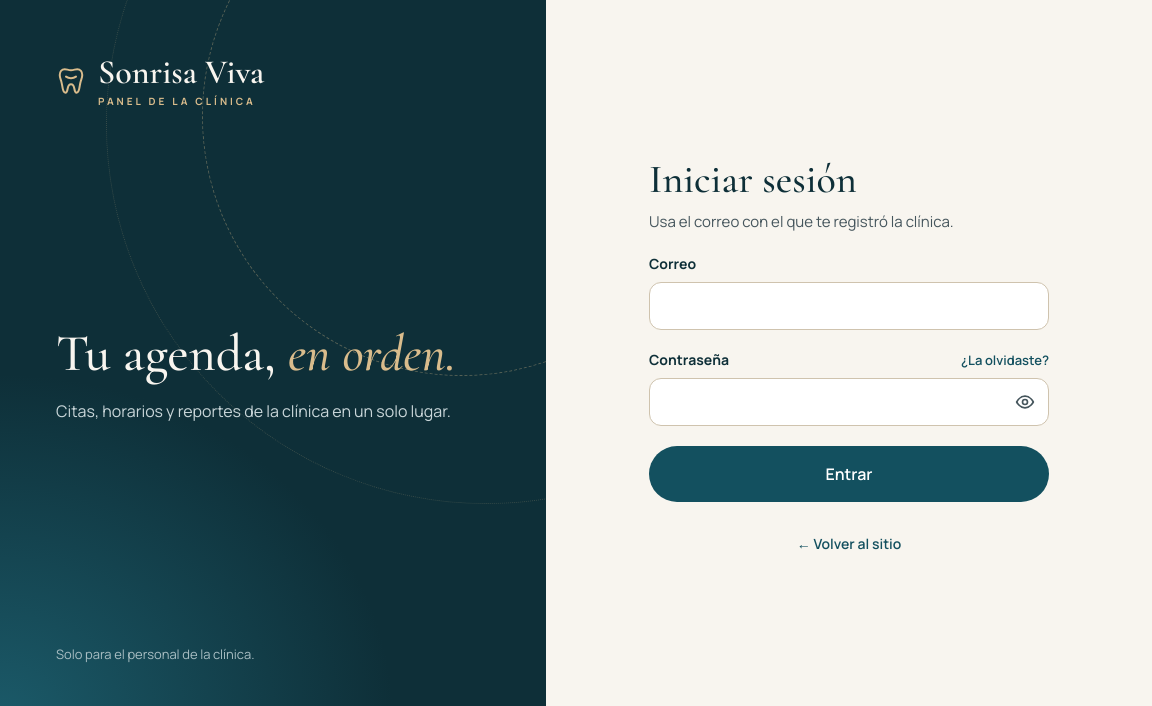
Test: Agenda semanal › la pestaña lleva el nombre de la sección al entrar desde el login
Type "laura.vargas@sonrisaviva.test" into the field labelled "Correo". click: (849, 306)
box: left=649, top=282, right=1049, bottom=330
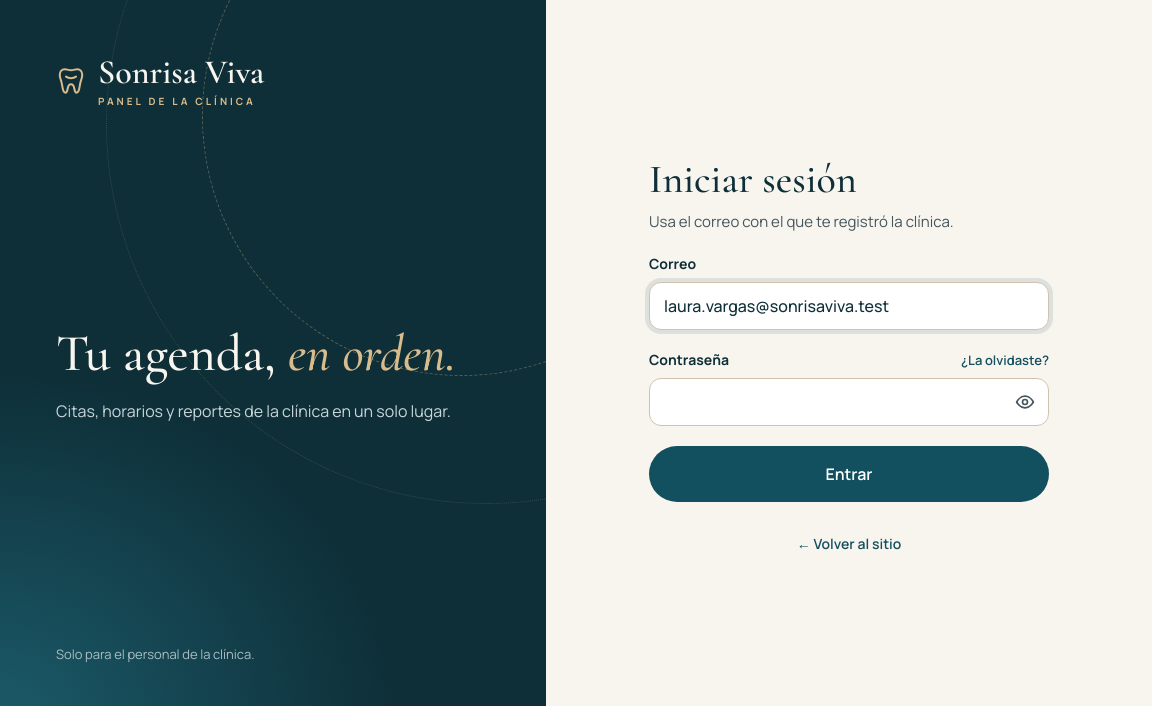
Type "Clave-Segura-2026" into the password field labelled "Contraseña". click: (849, 402)
box: left=649, top=378, right=1049, bottom=426
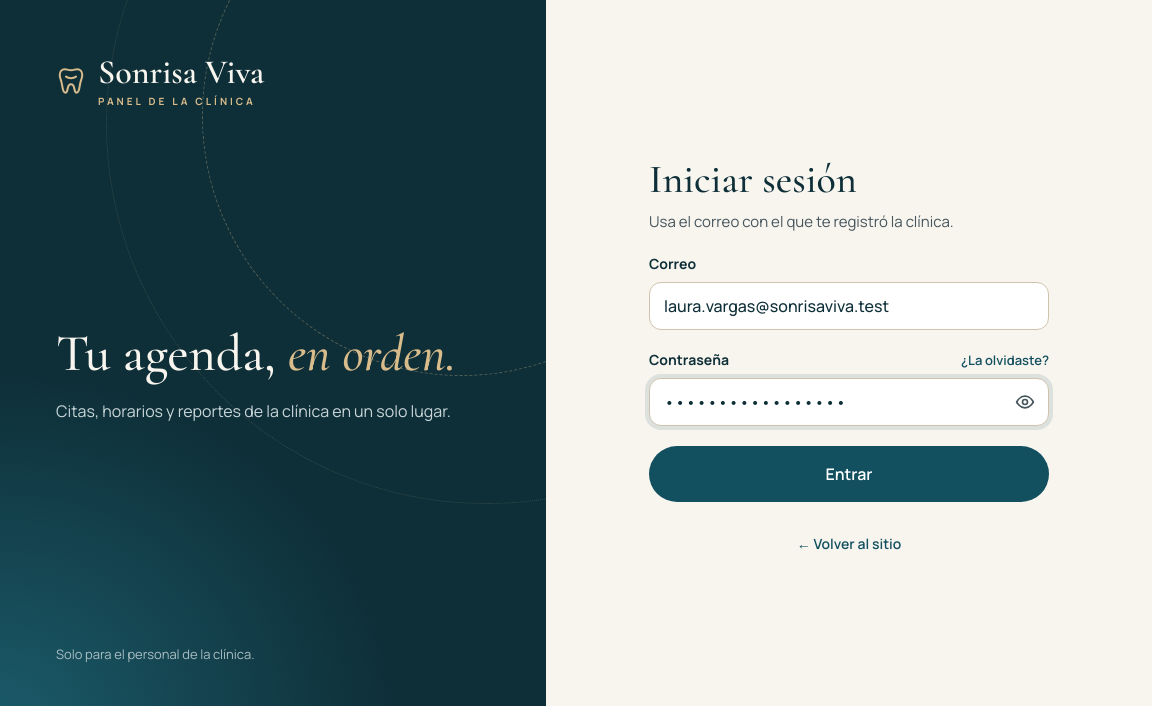
Click the button "Entrar". click: click(849, 474)
box: left=649, top=446, right=1049, bottom=502
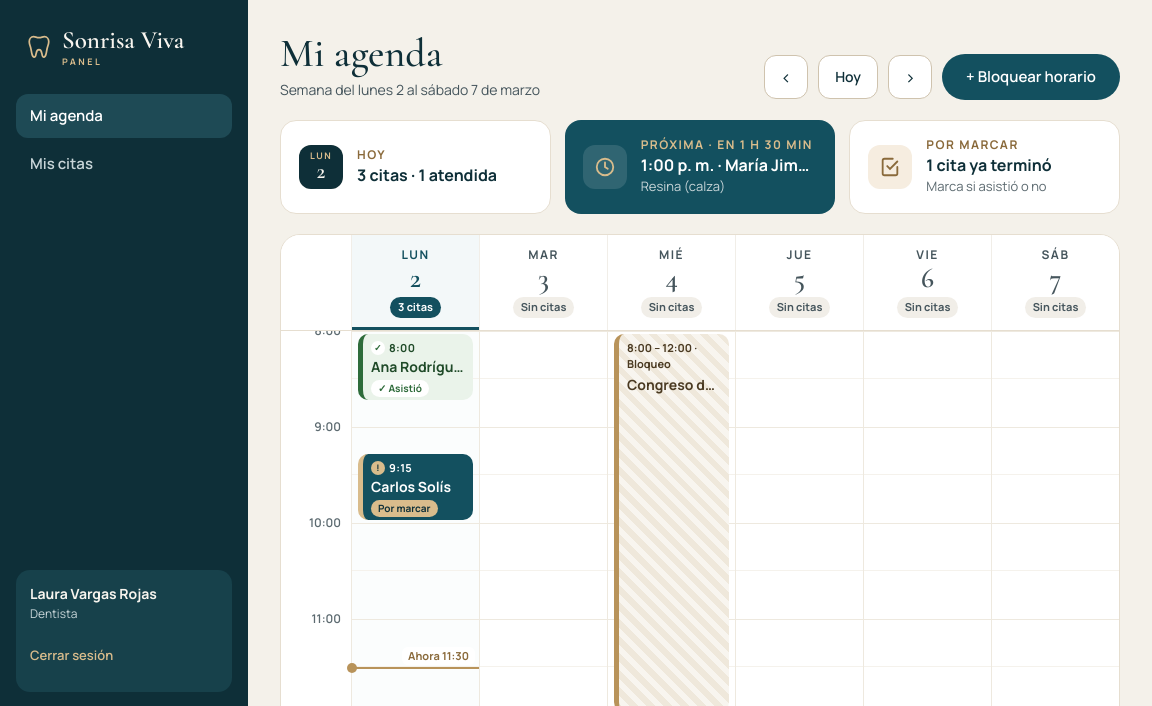
Now the heading "Mi agenda" is shown, box left=280, top=29, right=443, bottom=77
